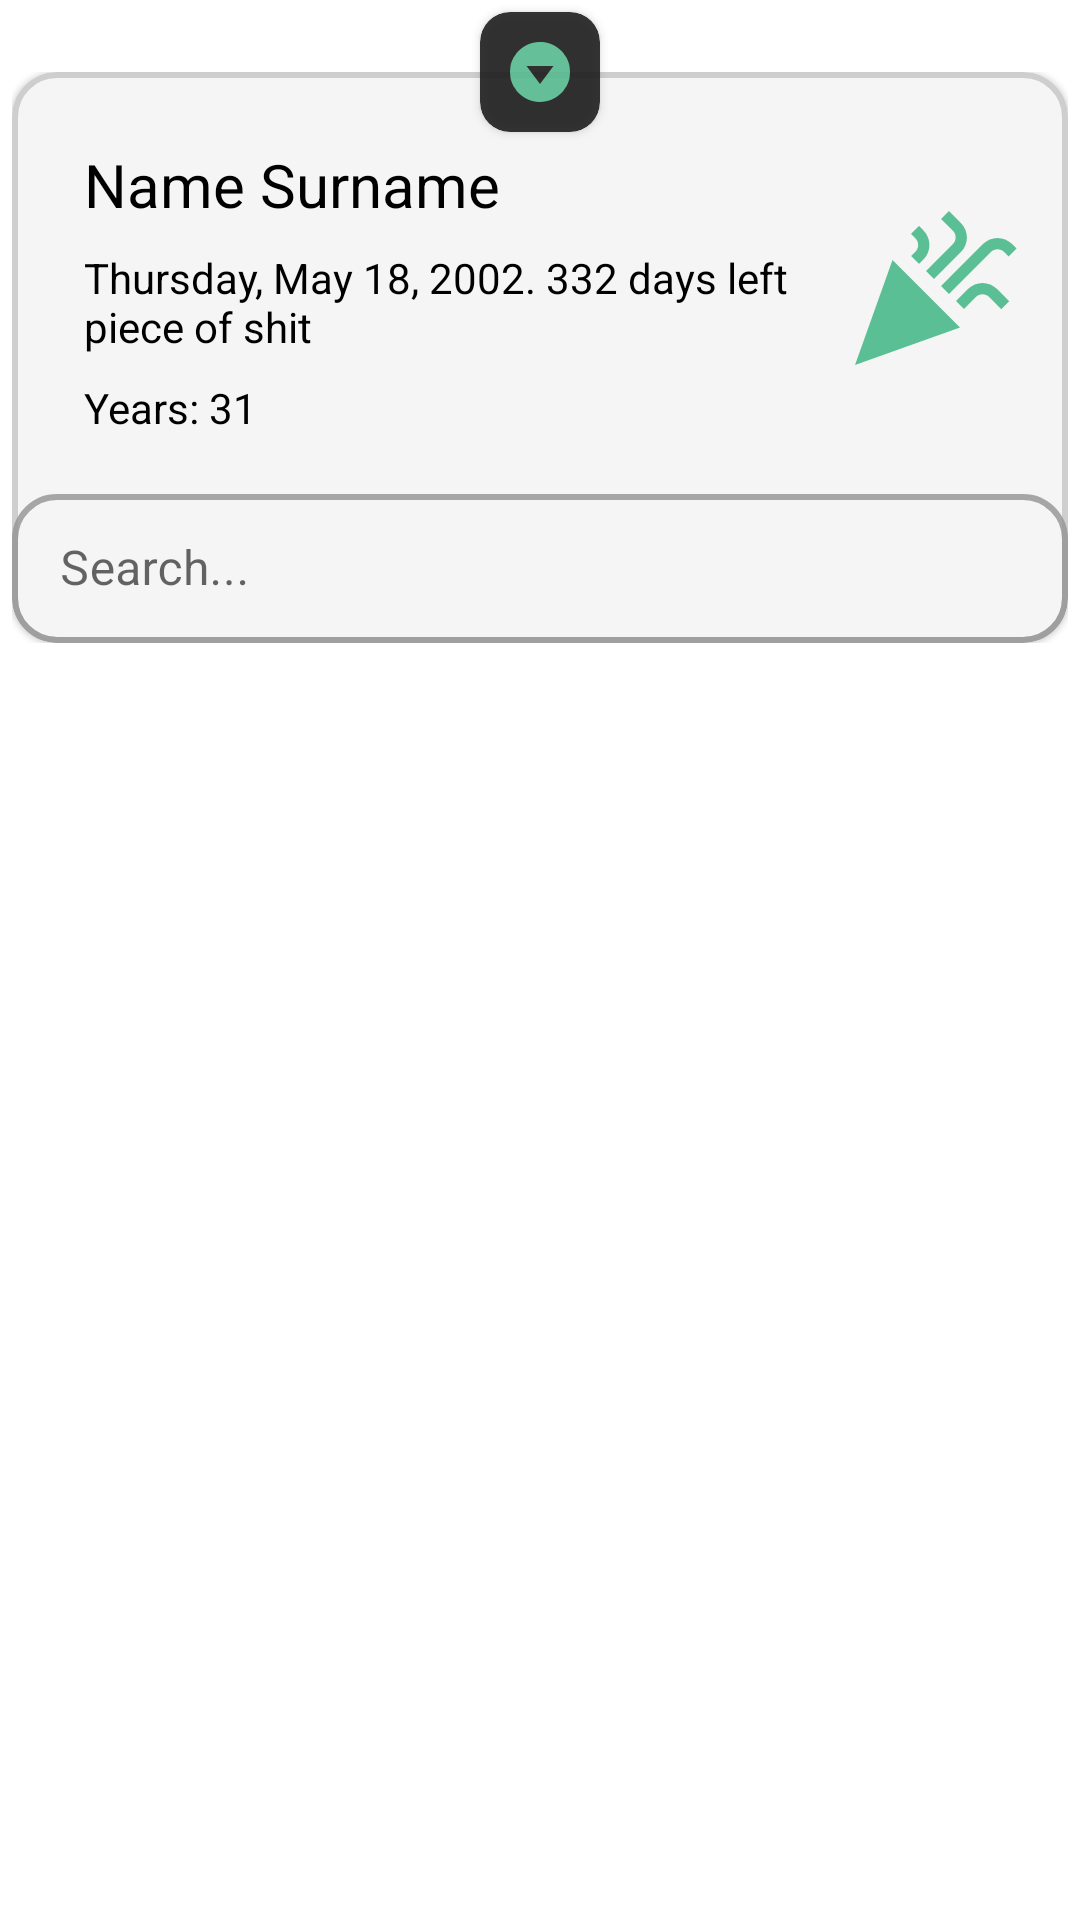

Icon bounding boxes for this 1080px x 1920px phone screenshot, format (x1, y1, x2, y2):
celebration: (855, 211, 1017, 365)
